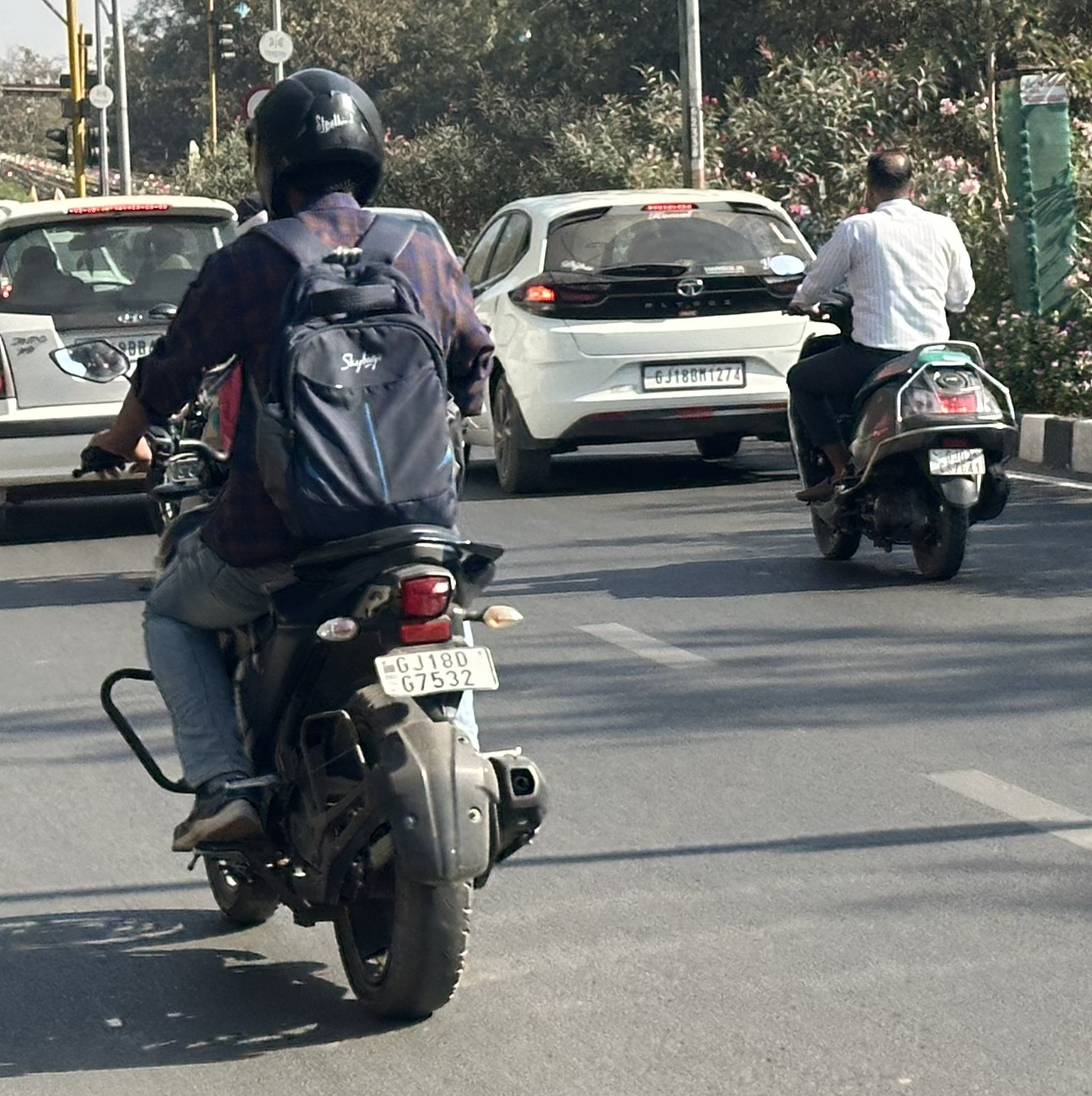BikeWithRider: (56, 56, 560, 1035), (768, 137, 1031, 591)
Helmet: (235, 58, 399, 227)
NoHelmet: (852, 140, 929, 219)
